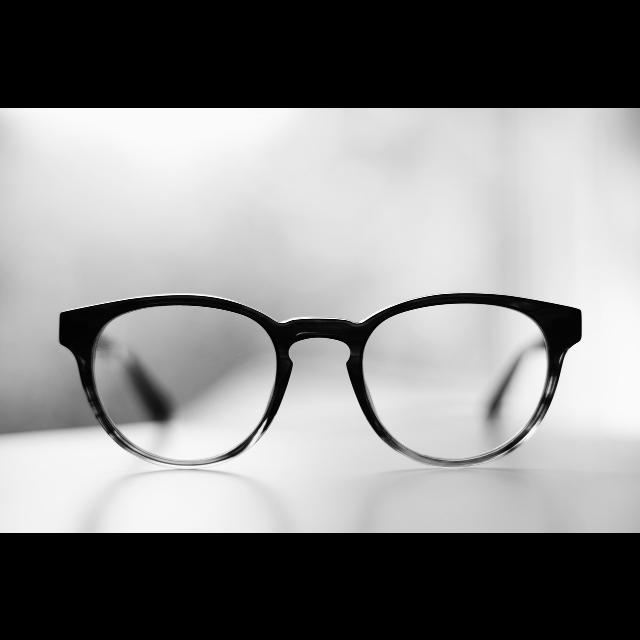glasses: (59, 292, 585, 464)
